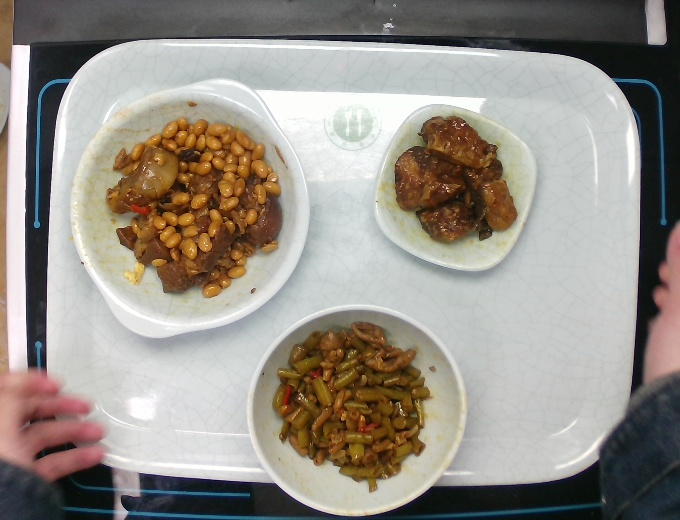JYsf-Fan_Wan: (241, 298, 467, 519)
JYsf-Shuang_Er_Wan: (67, 75, 316, 346)
JYsf-Si_Fang_Die: (366, 94, 546, 279)
